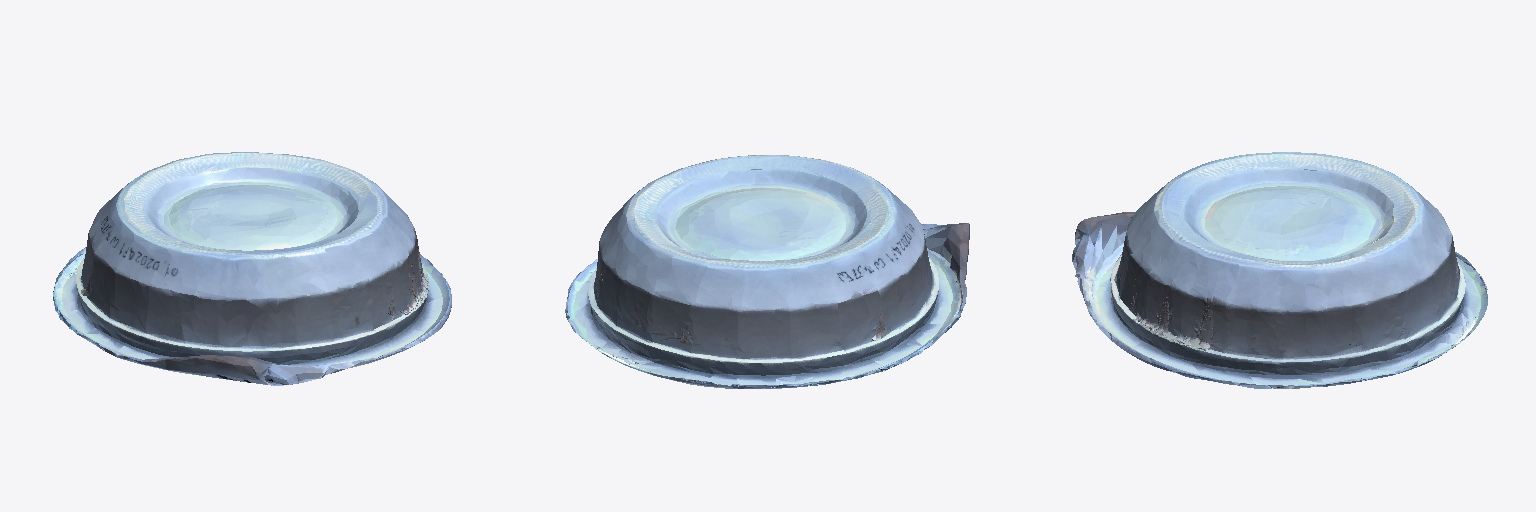
The picture shows the model from 3 angles: view 1: azimuth 30°, elevation 25°; view 2: azimuth 150°, elevation 25°; view 3: azimuth 270°, elevation 25°; orthographic projection.
Parts seen in each view (by area): view 1: rice; view 2: rice; view 3: rice.
Part boxes in pixels (x1,y1,x2,y2): rice: (53, 152, 451, 385); rice: (565, 155, 969, 388); rice: (1072, 152, 1487, 388).
Bounding box in the file's own units: 137 × 38.78 × 143.
Materials: 1 (1 with a texture image).